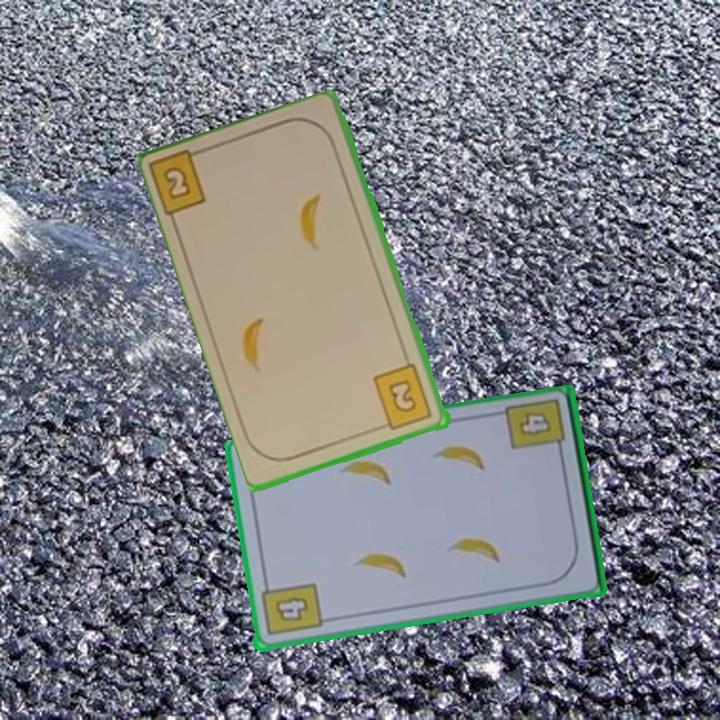2b: (148, 144, 212, 221), (370, 361, 436, 433)
4b: (257, 577, 324, 639), (515, 408, 551, 440)
